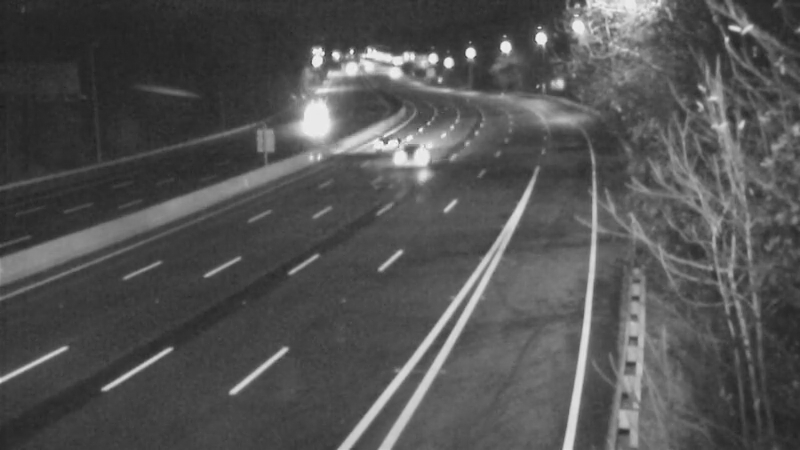vehicle: (370, 114, 450, 194), (367, 45, 417, 95), (356, 114, 406, 164), (285, 94, 335, 144)
